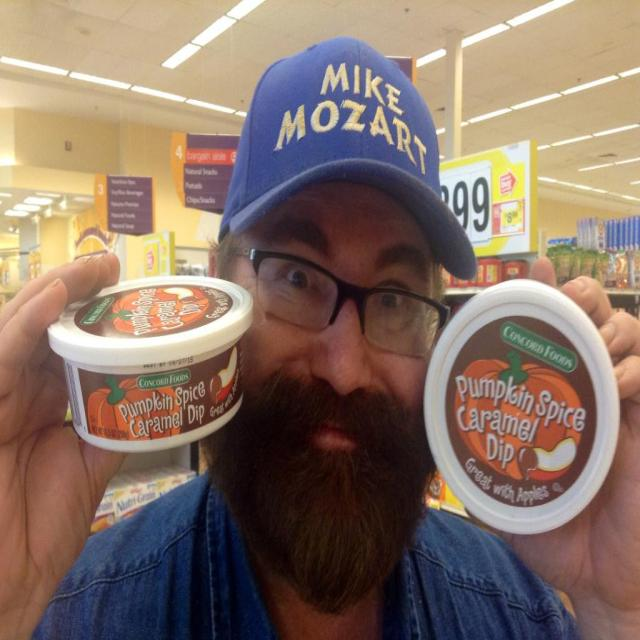Hat: (217, 32, 477, 278)
